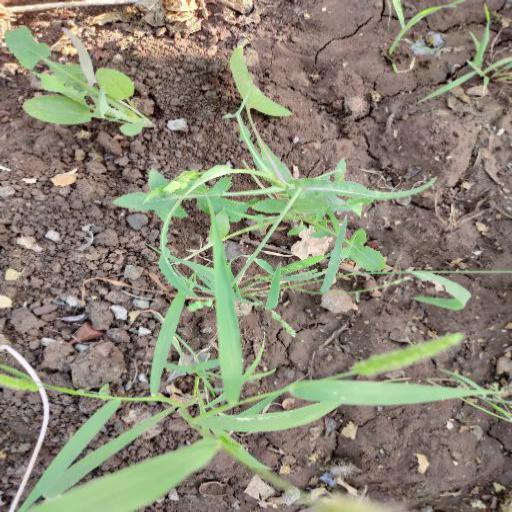weed: (1, 149, 507, 512)
